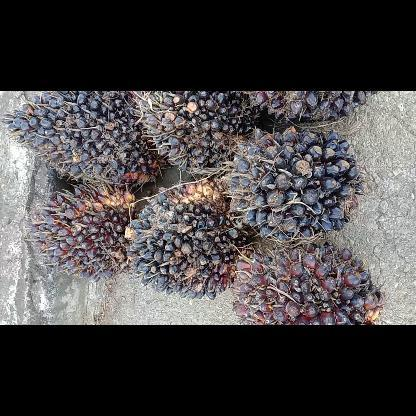TBS mentah: (0, 91, 169, 193), (123, 174, 255, 302), (222, 126, 366, 242), (230, 236, 386, 324), (25, 180, 142, 282), (132, 91, 260, 175)
